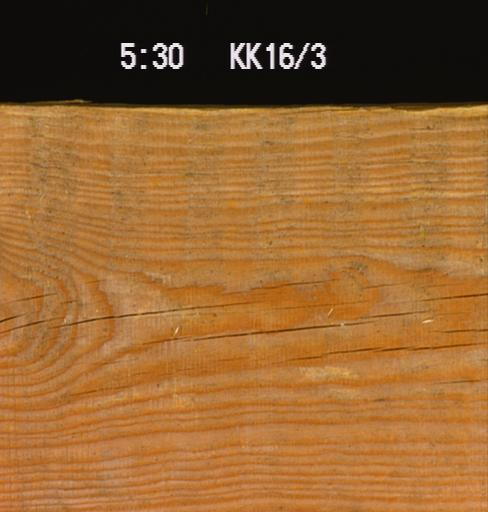split: (50, 296, 256, 328), (190, 318, 374, 340), (288, 343, 378, 363), (262, 298, 363, 313), (0, 313, 59, 338), (250, 274, 338, 290), (375, 339, 487, 351), (273, 105, 361, 116), (422, 290, 487, 300), (6, 289, 51, 302), (351, 309, 428, 316), (356, 280, 411, 289), (431, 326, 487, 332), (427, 377, 483, 383)
